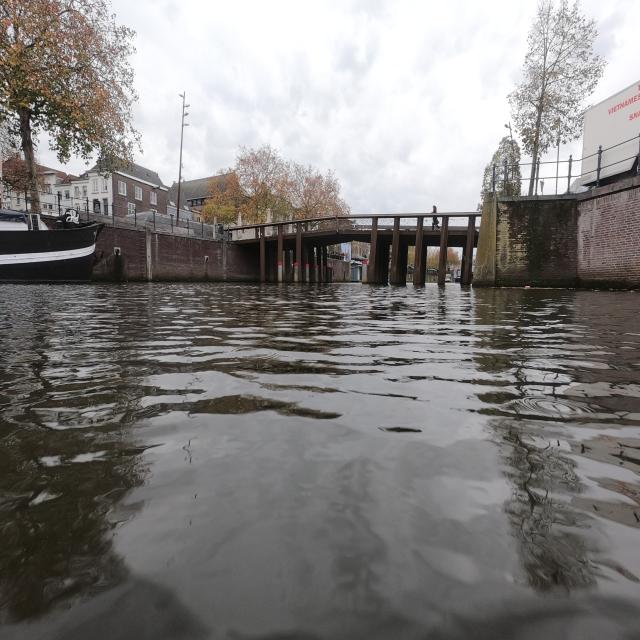boat: (0, 212, 105, 282)
sky: (102, 4, 534, 210)
tree: (0, 2, 148, 192), (206, 138, 350, 224)
wall: (480, 170, 638, 286), (92, 222, 258, 280)
water: (10, 290, 634, 634)
